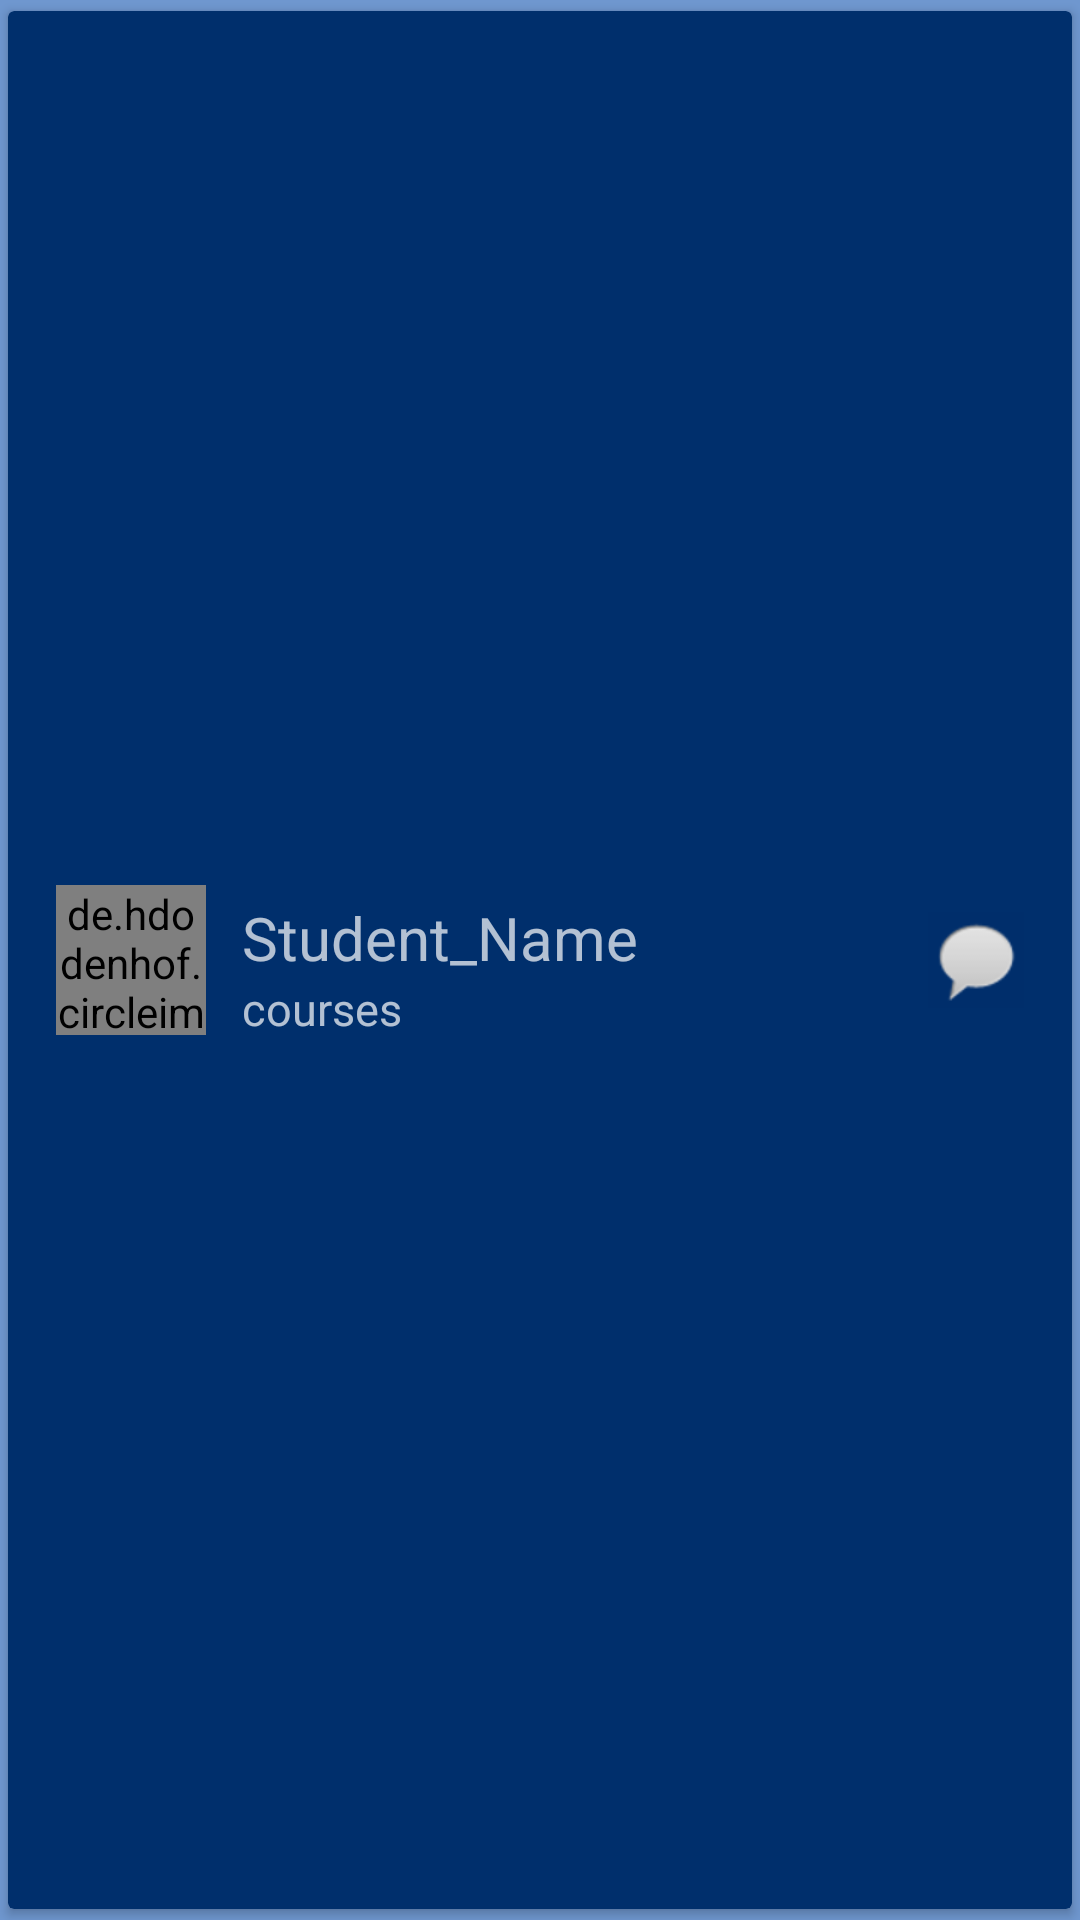

Locate icon controls on the screen. Image size 1080w x 1920h, boxes as region(x1, y1, x2, y2).
sym action chat: region(939, 924, 1014, 1001)
